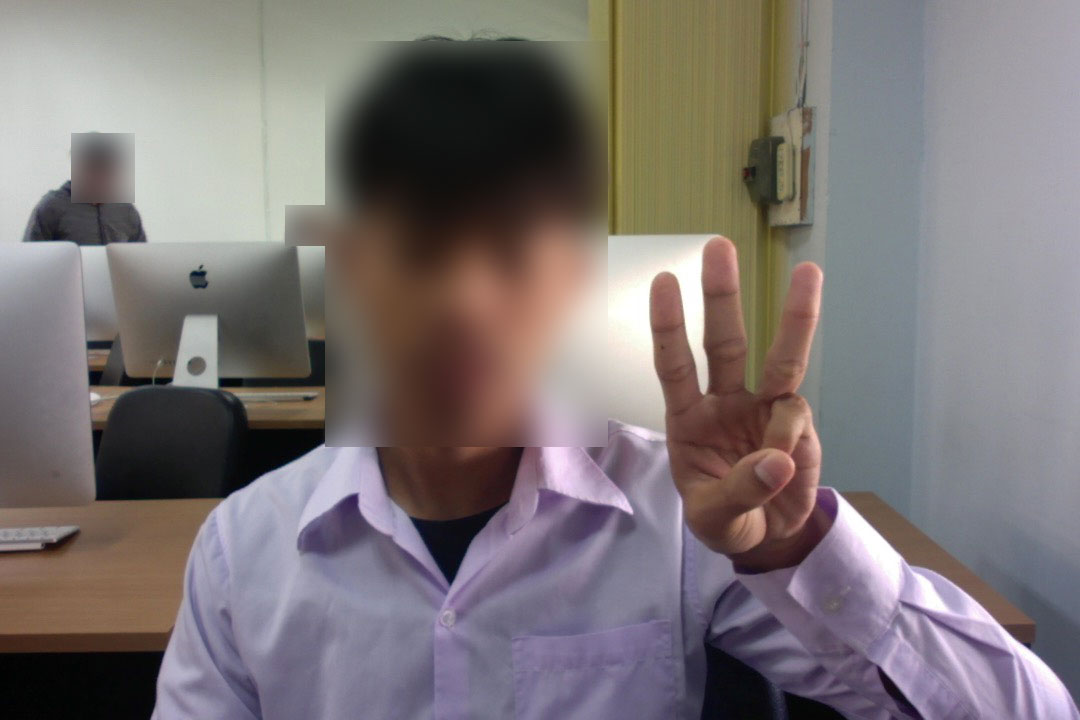wor: (626, 214, 850, 561)
